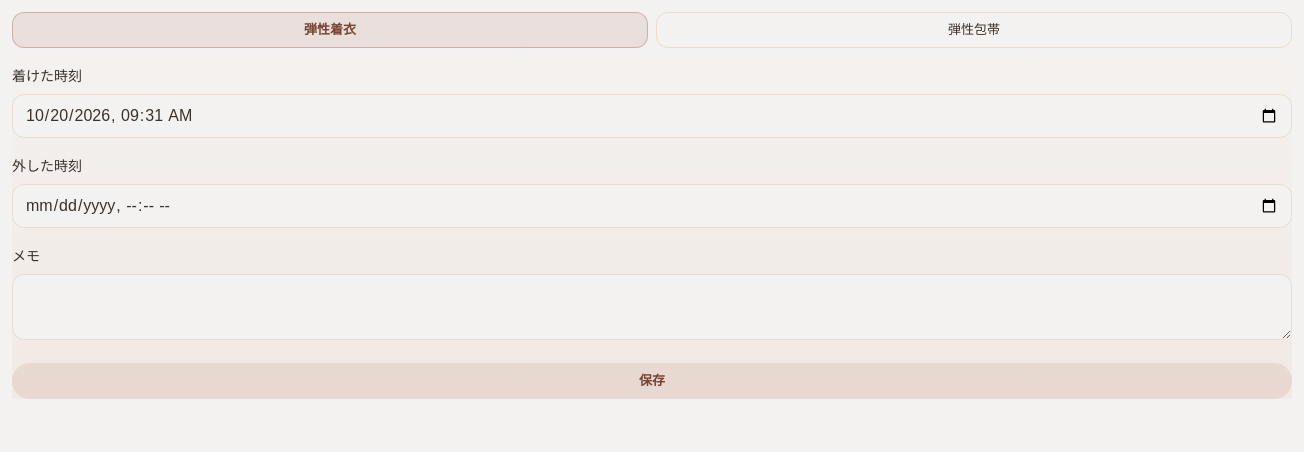
Test: CompressionForm › refuses a take-off before the put-on
Expected: the button "保存" is enabled, x1=12 y1=363 x2=1292 y2=399
Replace the text in the field labelled "着けた時刻" with "2026-10-20T10:00" at {"x": 652, "y": 116}, box x1=12 y1=94 x2=1292 y2=138
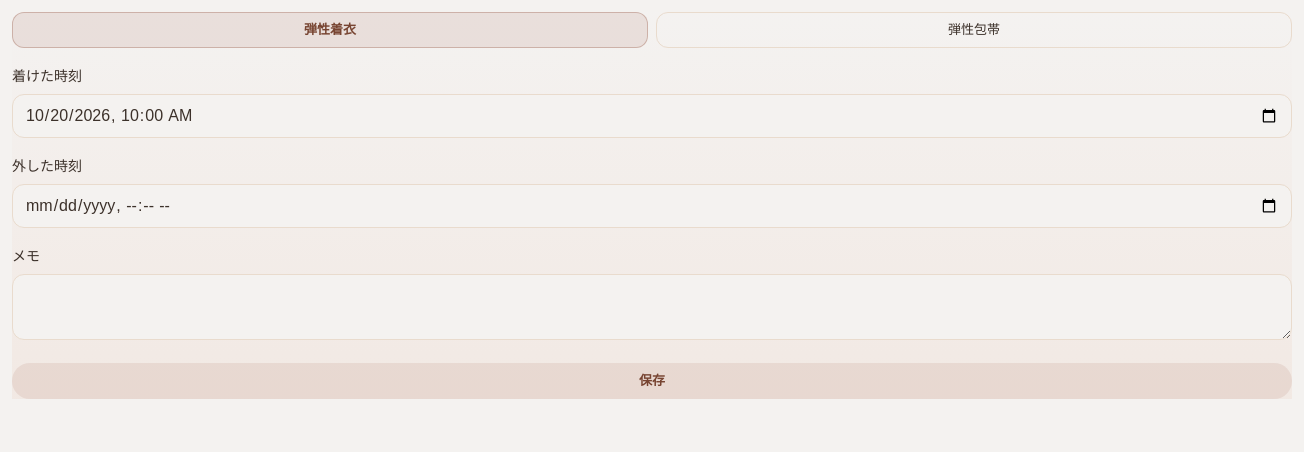
Type "2026-10-20T09:00" into the field labelled "外した時刻" at {"x": 652, "y": 206}, box x1=12 y1=184 x2=1292 y2=228
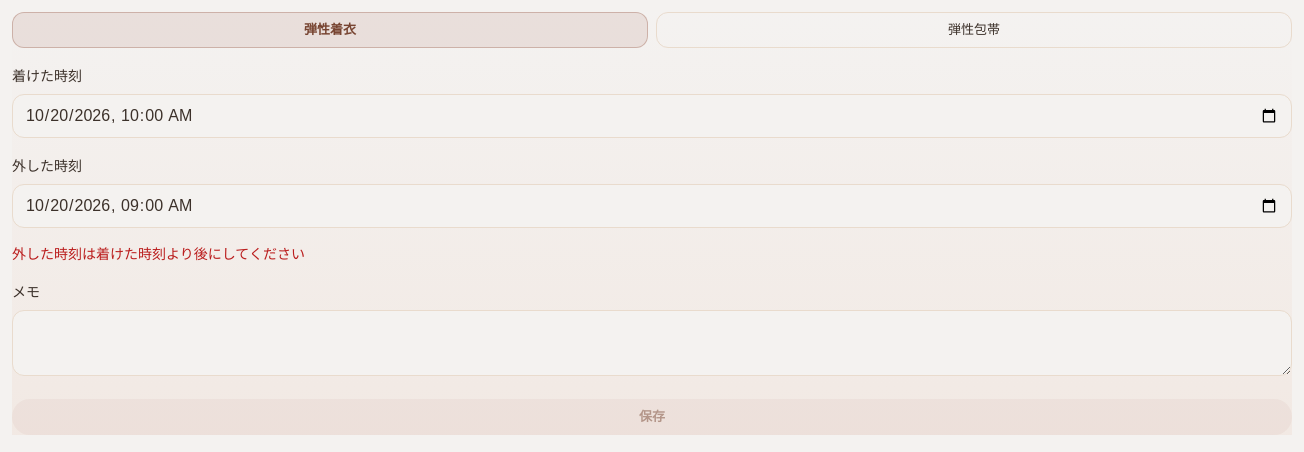
Expected: the text "外した時刻は着けた時刻より後にしてください" is shown, x1=12 y1=246 x2=305 y2=262
Expected: the button "保存" is disabled, x1=12 y1=399 x2=1292 y2=435
